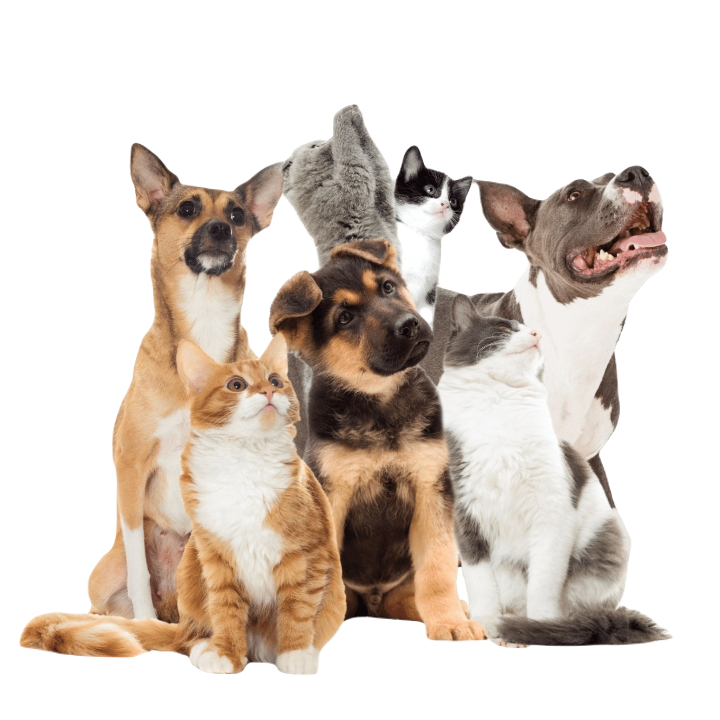Dog: (275, 243, 482, 648)
